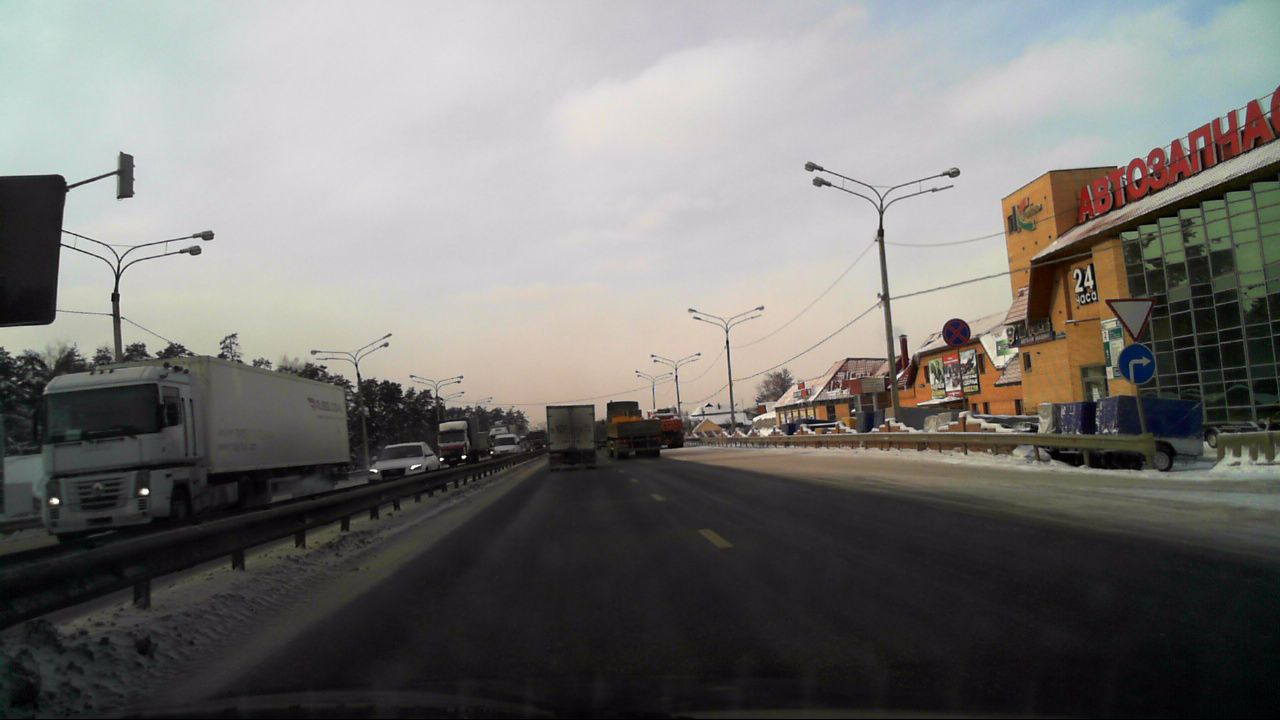No Parking: (941, 318, 972, 349)
